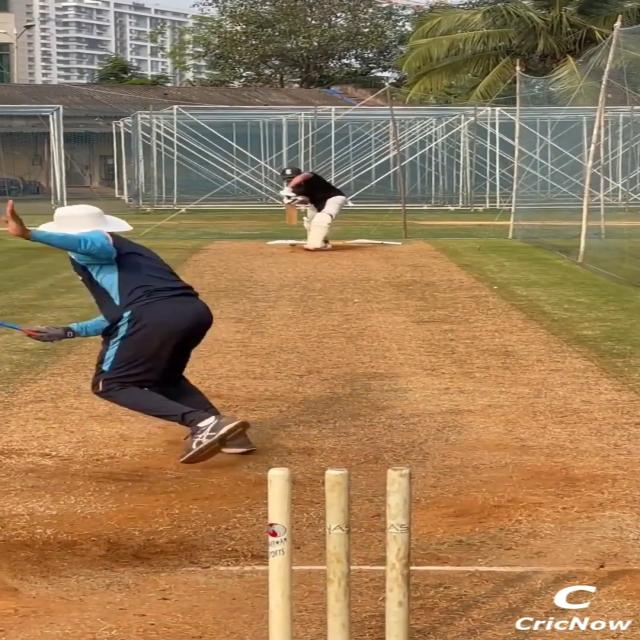stump: (260, 462, 412, 640)
